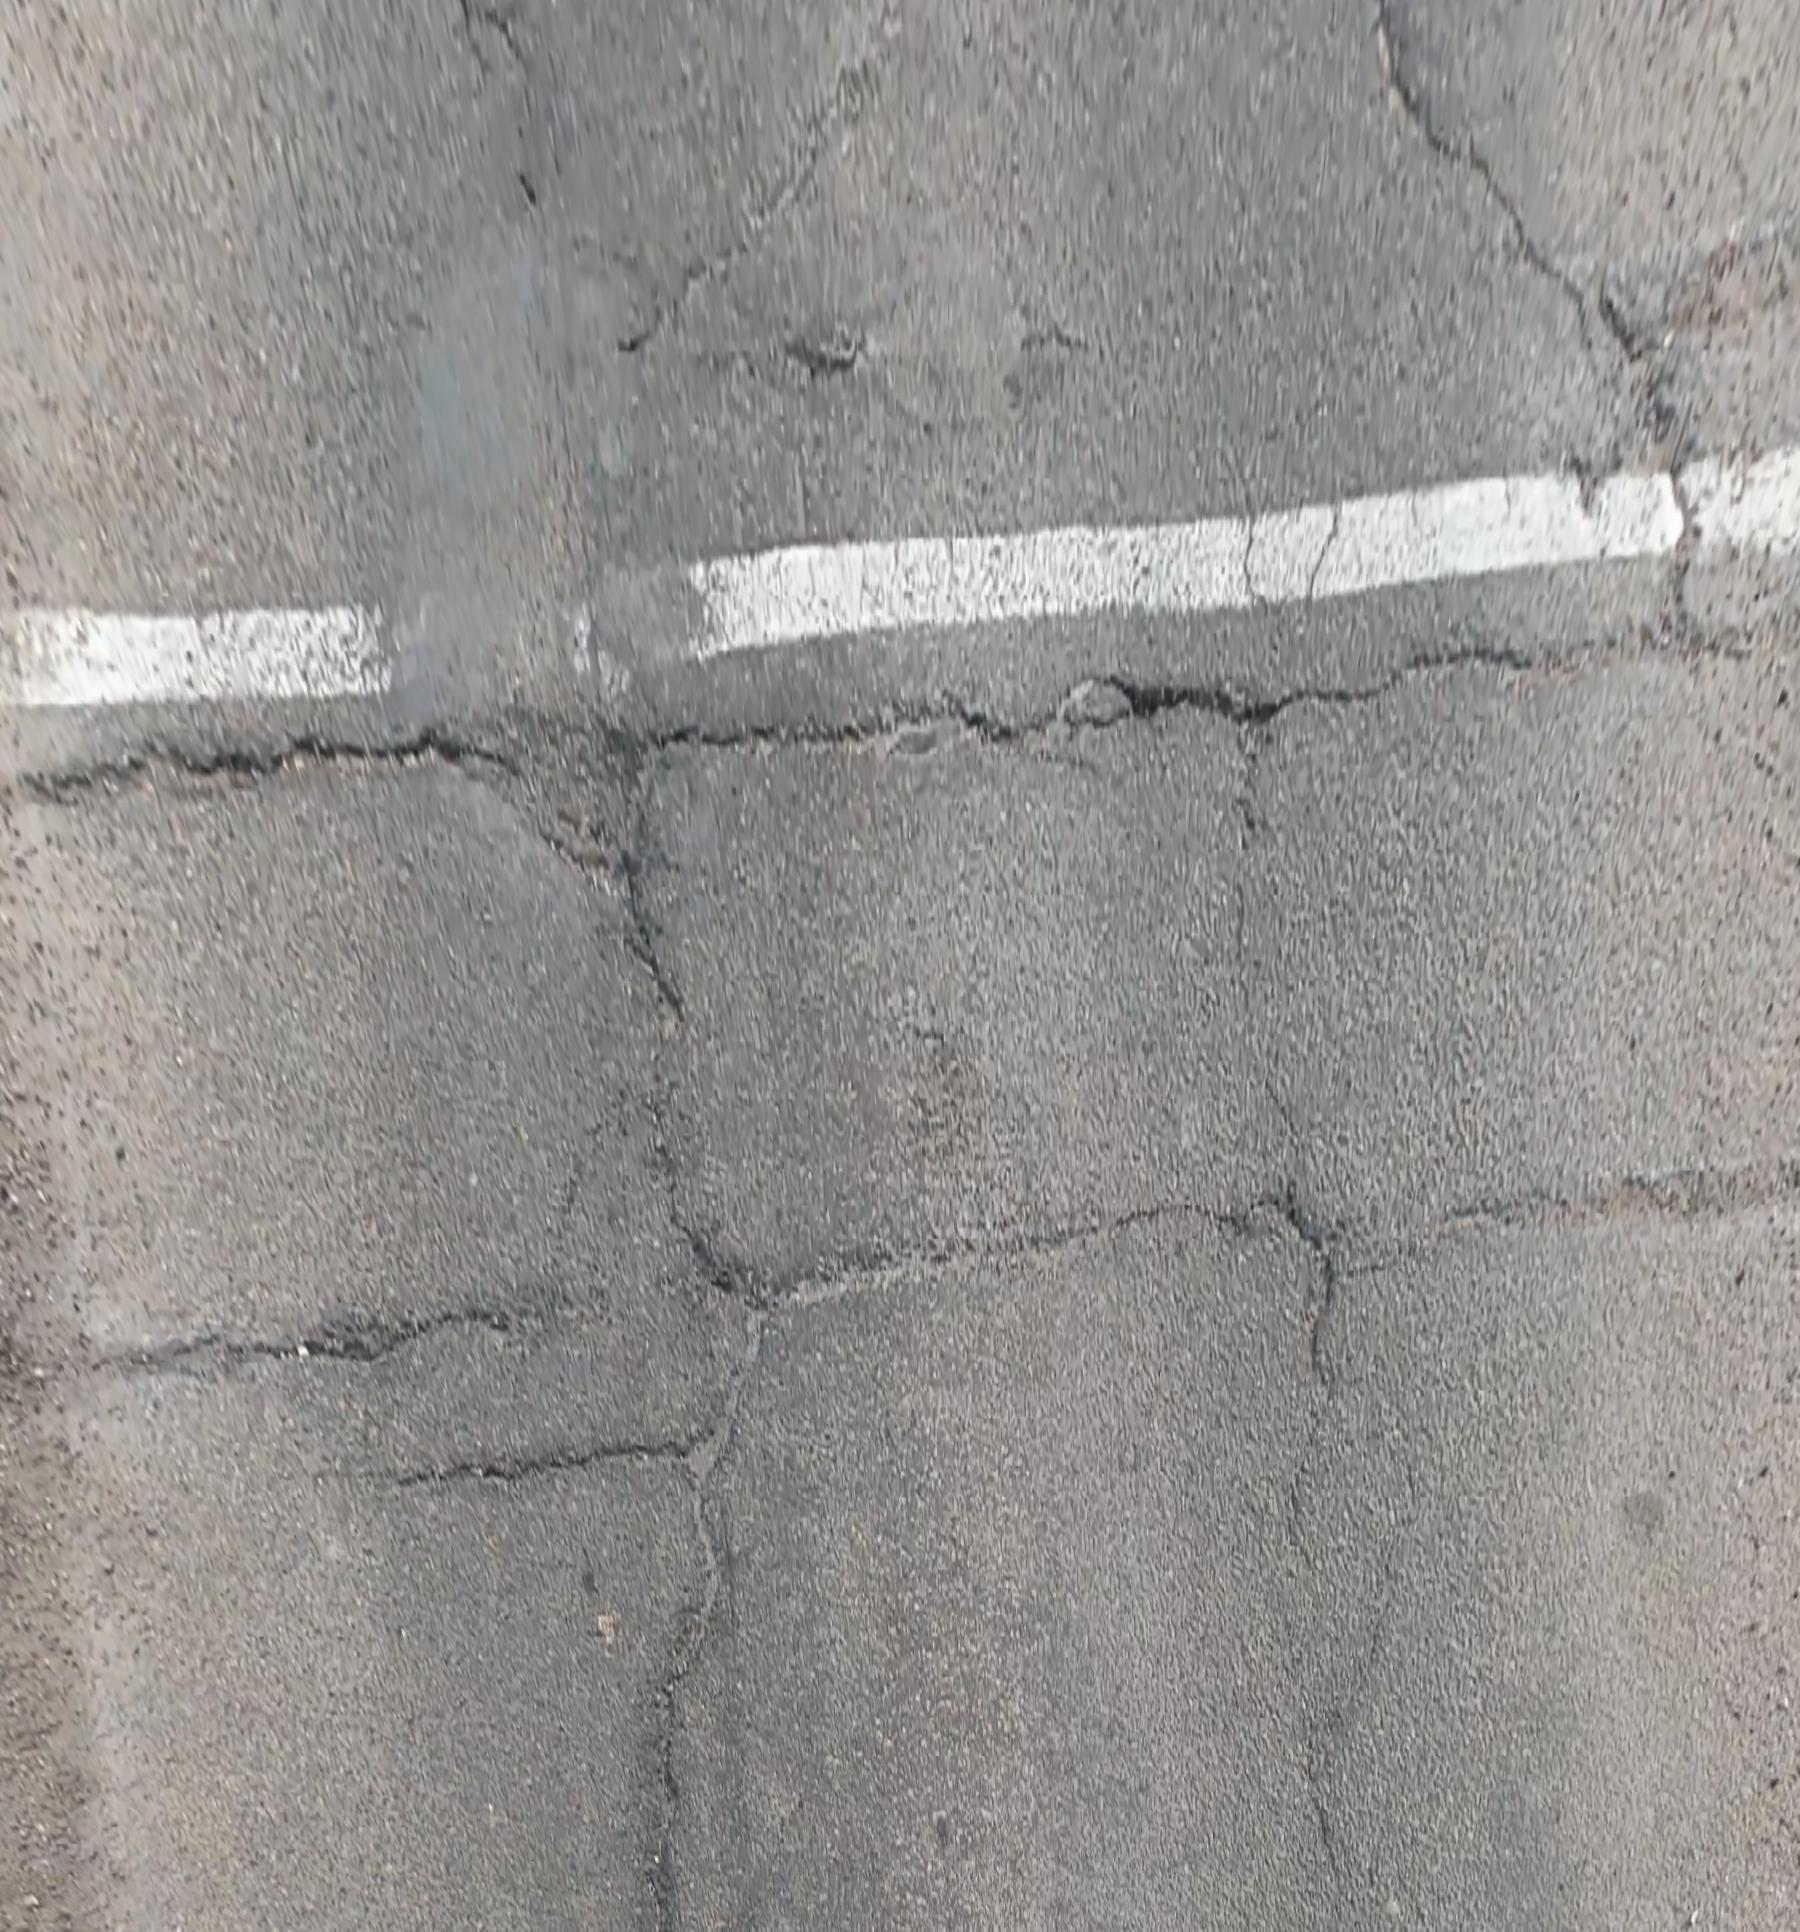pothole: (443, 712, 643, 905)
pothole_patch_good: (372, 233, 707, 744)
